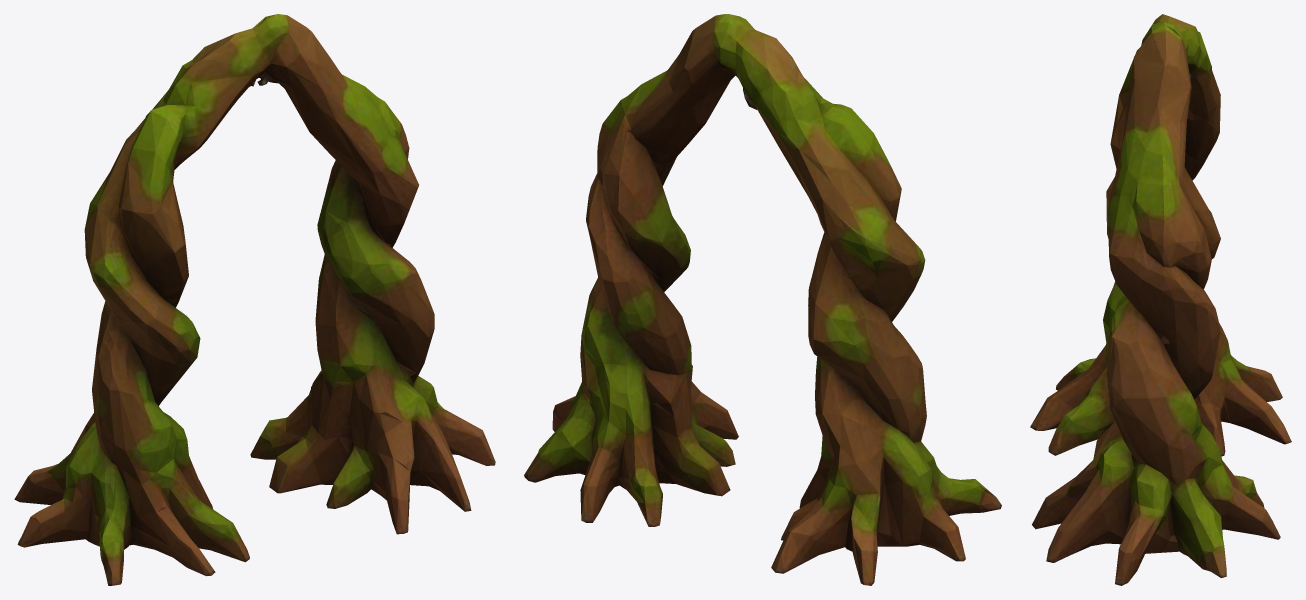
The model's file is d_racines_arche.glb.
3 views of the same model, side by side, from view 1: azimuth 30°, elevation 25°; view 2: azimuth 150°, elevation 25°; view 3: azimuth 270°, elevation 25° (orthographic). The views are drawn at different scales.
Parts seen in each view (by area): view 1: geometry_0; view 2: geometry_0; view 3: geometry_0.
Boxes of the visible parts, x1,y1,x2,y2 form: geometry_0: (14, 14, 495, 585); geometry_0: (524, 14, 1001, 585); geometry_0: (1030, 14, 1291, 585).
Bounding box in the file's own units: 0.9538 × 0.9975 × 0.4981.
1 material, 1 textured.
